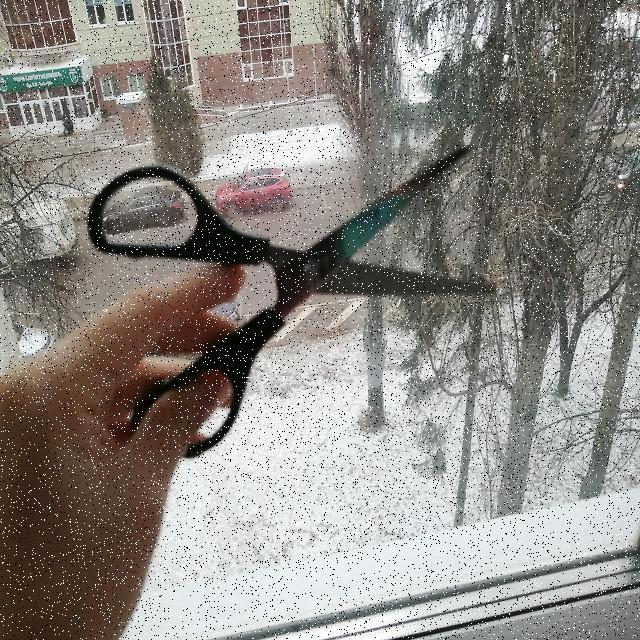scissors: (86, 118, 507, 468)
